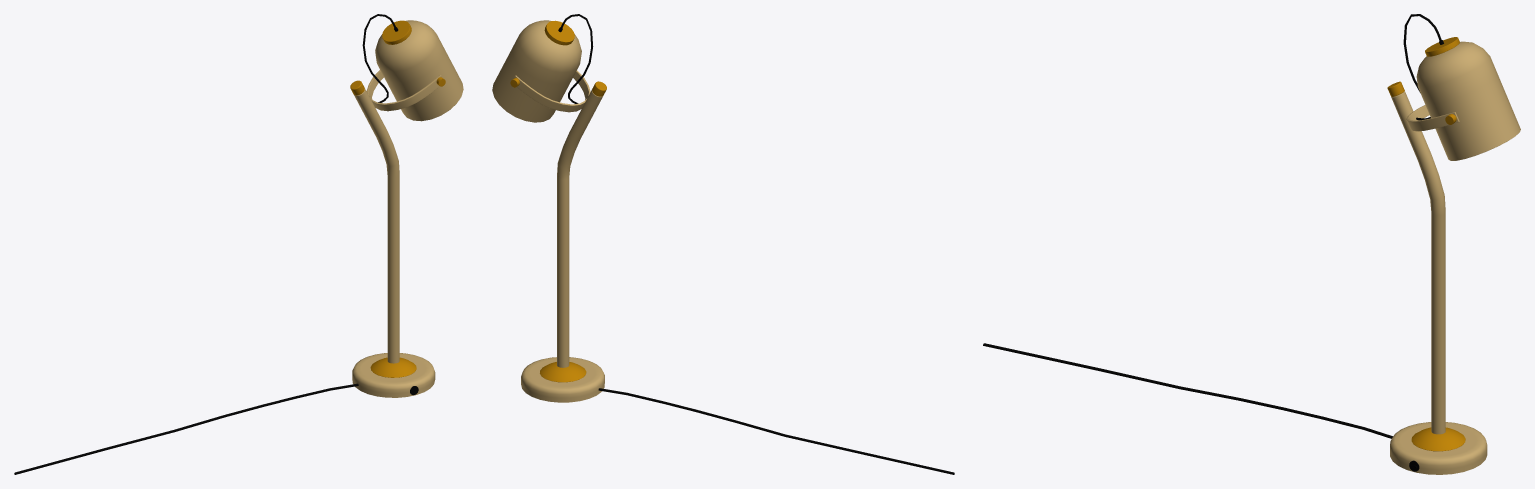
Rendered from lamp_fbx.fbx.
3 views of the same model, side by side, from view 1: azimuth 30°, elevation 25°; view 2: azimuth 150°, elevation 25°; view 3: azimuth 330°, elevation 25° (orthographic). The views are drawn at different scales.
Parts seen in each view (by area): view 1: bulb_holder, main_stand, bottom_main_stand, wire2, main_lamp_holder, bottom_support_stand, holder_cap; view 2: bulb_holder, main_stand, bottom_main_stand, wire2, main_lamp_holder, bottom_support_stand, holder_cap; view 3: bulb_holder, main_stand, bottom_main_stand, wire2, bottom_support_stand, main_lamp_holder.
Boxes of the visible parts, <box> form: bulb_holder: <box>375,20,463,121</box>; main_stand: <box>354,89,399,363</box>; bottom_main_stand: <box>352,353,435,397</box>; wire2: <box>14,383,358,474</box>; main_lamp_holder: <box>366,70,442,111</box>; bottom_support_stand: <box>370,357,416,377</box>; holder_cap: <box>382,20,411,44</box>; bulb_holder: <box>492,20,581,122</box>; main_stand: <box>557,90,602,367</box>; bottom_main_stand: <box>521,357,604,402</box>; wire2: <box>598,388,954,474</box>; main_lamp_holder: <box>513,70,590,112</box>; bottom_support_stand: <box>540,362,586,382</box>; holder_cap: <box>544,20,574,45</box>; bulb_holder: <box>1416,41,1520,160</box>; main_stand: <box>1391,91,1445,434</box>; bottom_main_stand: <box>1390,422,1487,474</box>; wire2: <box>983,343,1392,438</box>; bottom_support_stand: <box>1411,427,1465,451</box>; main_lamp_holder: <box>1406,105,1459,131</box>.
Size of the model in its own units: 17.71 by 14 by 2.88.
